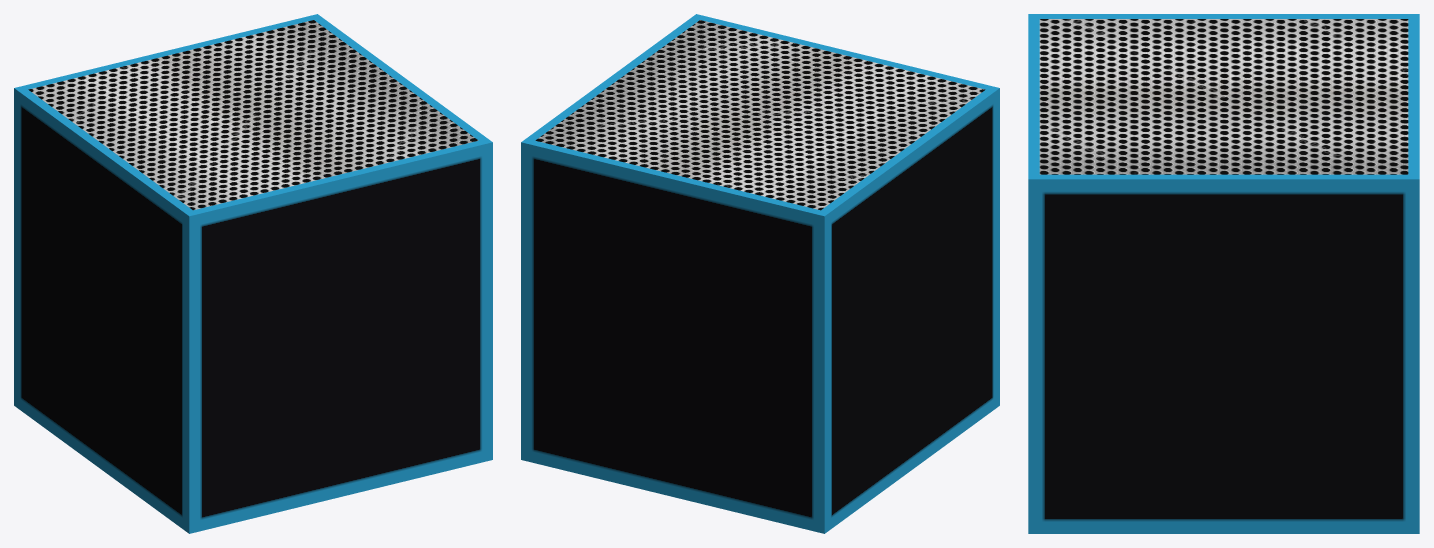
File: StopBox.fbx
3 views of the same model, side by side, from view 1: azimuth 30°, elevation 25°; view 2: azimuth 150°, elevation 25°; view 3: azimuth 270°, elevation 25° (orthographic). The views are drawn at different scales.
Visible parts, largest first — view 1: Cube.005; view 2: Cube.005; view 3: Cube.005.
Boxes of the visible parts, left/top/right/bottom form: Cube.005: left=14, top=14, right=492, bottom=533; Cube.005: left=521, top=14, right=999, bottom=533; Cube.005: left=1028, top=14, right=1419, bottom=533.
Size of the model in its own units: 200 by 200 by 200.
